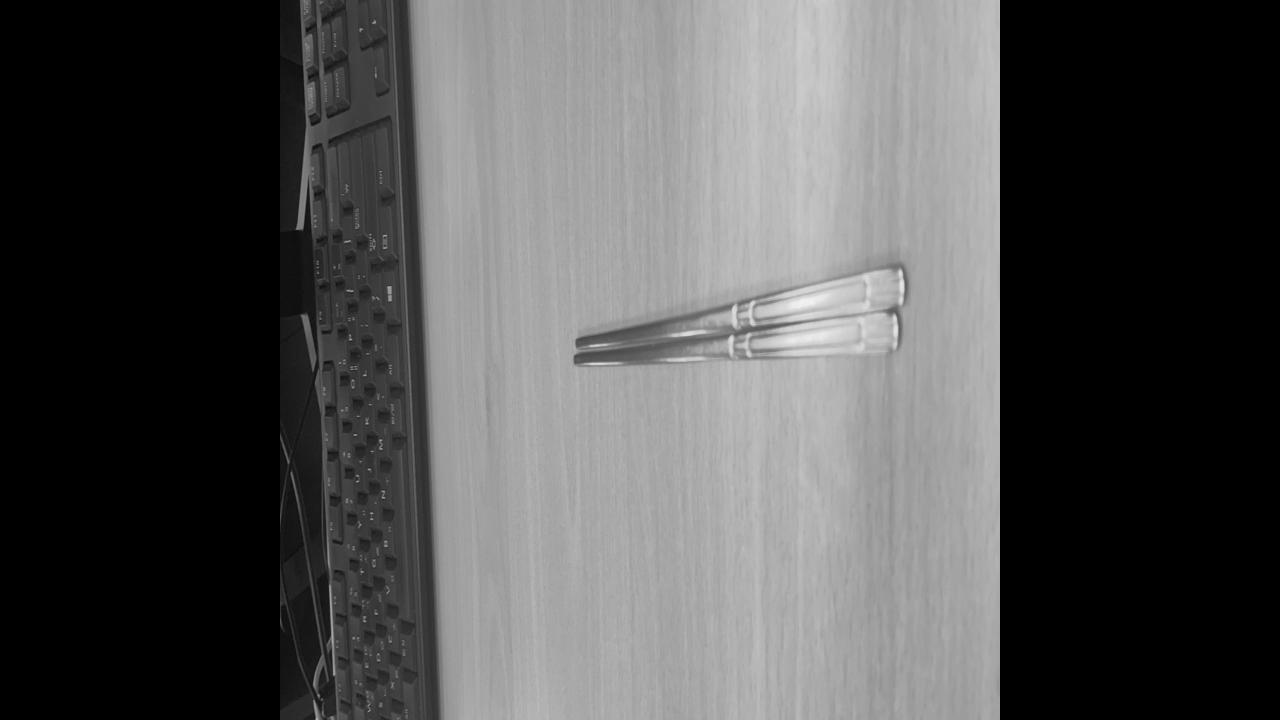chopstick: (575, 266, 903, 366)
